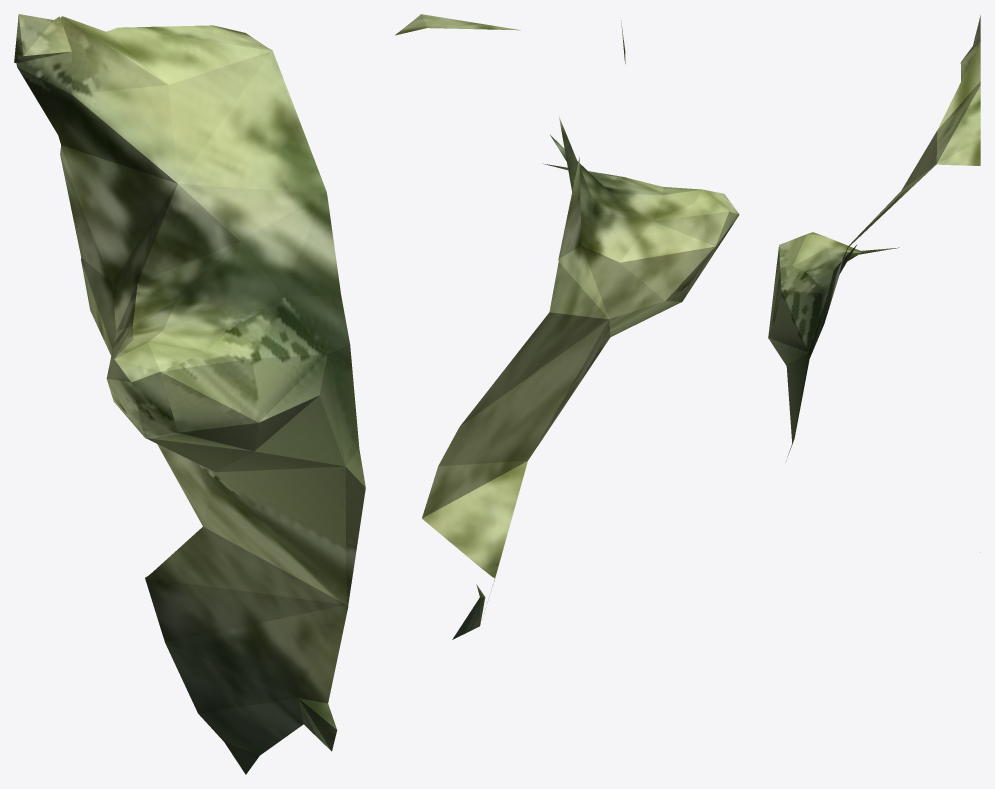
3 views of the same model, side by side, from view 1: azimuth 30°, elevation 25°; view 2: azimuth 150°, elevation 25°; view 3: azimuth 270°, elevation 25° (orthographic). The views are drawn at different scales.
Bounding box in the file's own units: 0.8645 × 2.88 × 0.8294.
1 material, 1 textured.
